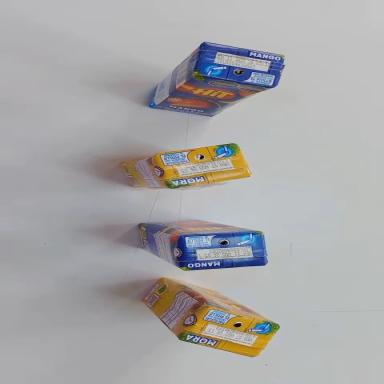HIT-MANGO: (148, 35, 286, 129), (138, 218, 266, 271)
HIT-MORA: (135, 272, 284, 367), (121, 142, 251, 194)
cara_F: (153, 68, 277, 126), (162, 277, 281, 327), (140, 216, 261, 238)
